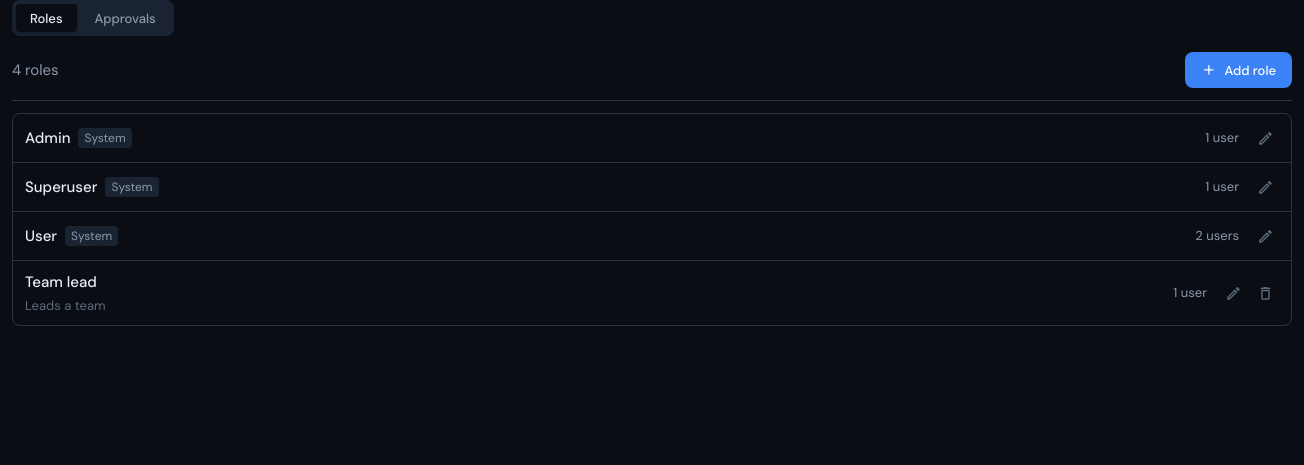
it: RolesPanel › adds a role through the form
The width and height of the screenshot is (1304, 465).
Click the button "Add role".
click(1238, 70)  # box [1185,52,1292,88]
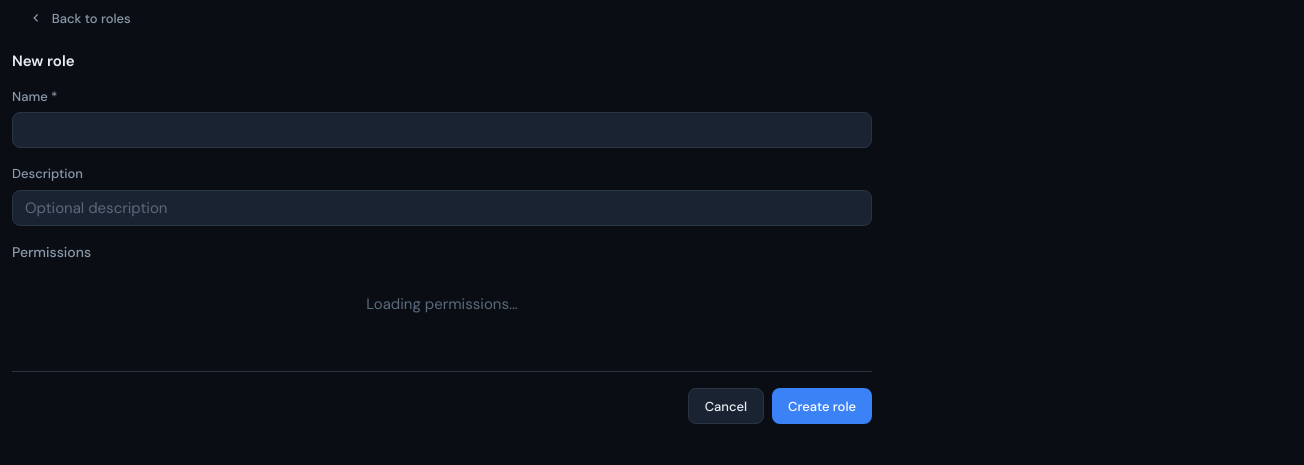
expect the heading "New role" is shown: met, box [12,51,75,71]
Type "QA" into the field labelled "Name *".
click(442, 130); type("QA")  # box [12,112,872,148]
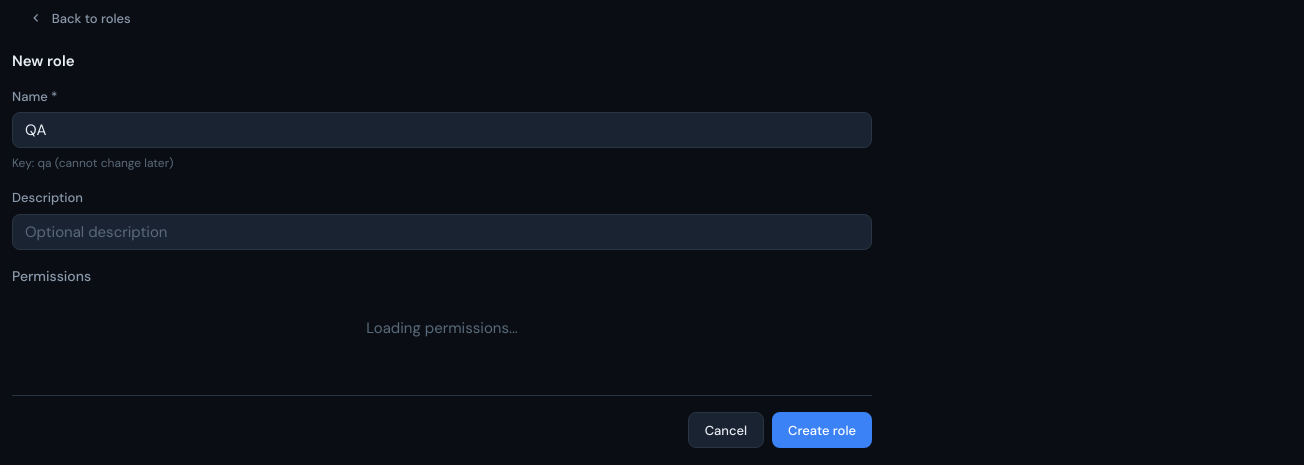
Click the button "Create role".
click(822, 430)  # box [772,412,872,448]
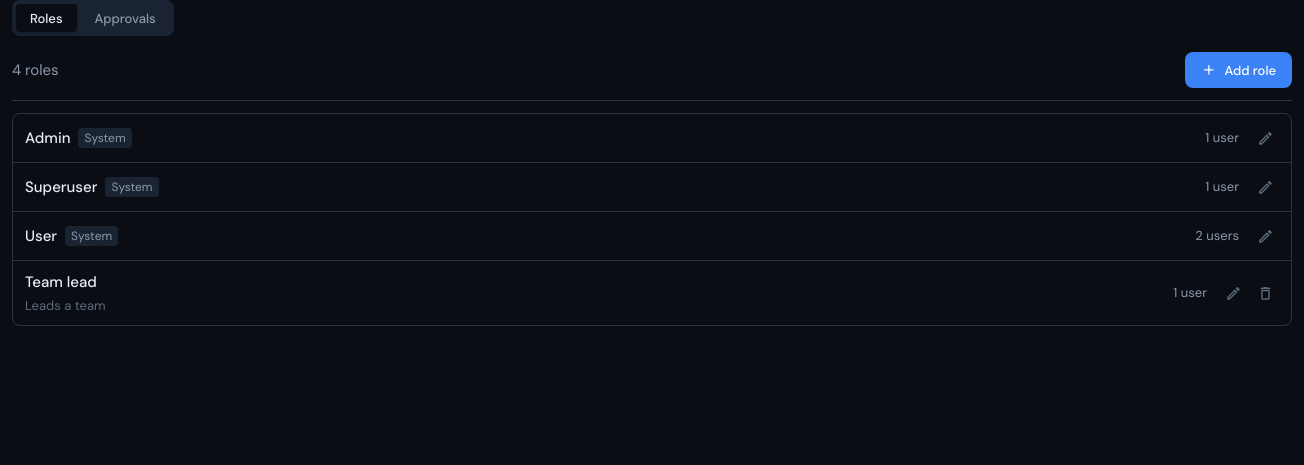
expect the text "4 roles" is shown: met, box [12,59,59,81]
